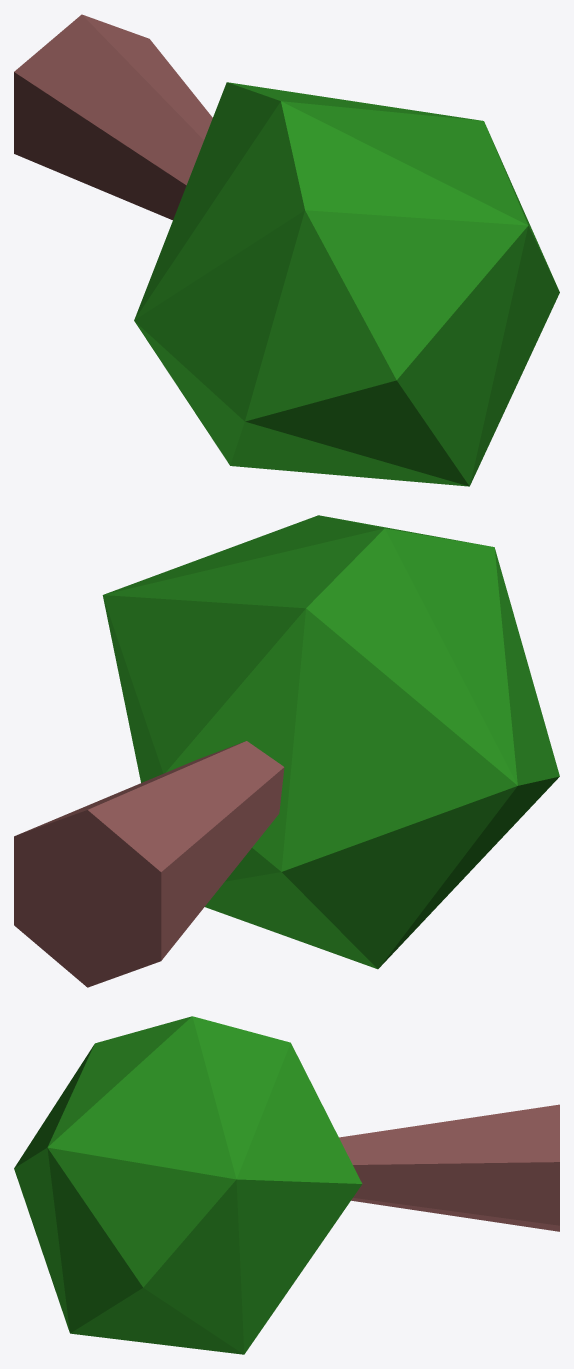
The picture shows the model from 3 angles, top to bottom: view 1: azimuth 30°, elevation 25°; view 2: azimuth 150°, elevation 25°; view 3: azimuth 270°, elevation 25°; orthographic projection. The views are drawn at different scales.
Visible parts, largest first — view 1: Cylinder_1, Cylinder_0; view 2: Cylinder_1, Cylinder_0; view 3: Cylinder_1, Cylinder_0.
Boxes of the visible parts, <box> form: Cylinder_1: <box>134,82,559,486</box>; Cylinder_0: <box>14,14,212,220</box>; Cylinder_1: <box>102,515,559,969</box>; Cylinder_0: <box>14,741,284,987</box>; Cylinder_1: <box>14,1016,362,1354</box>; Cylinder_0: <box>339,1104,559,1231</box>.
Bounding box in the file's own units: 2.22 × 2.11 × 3.53.
